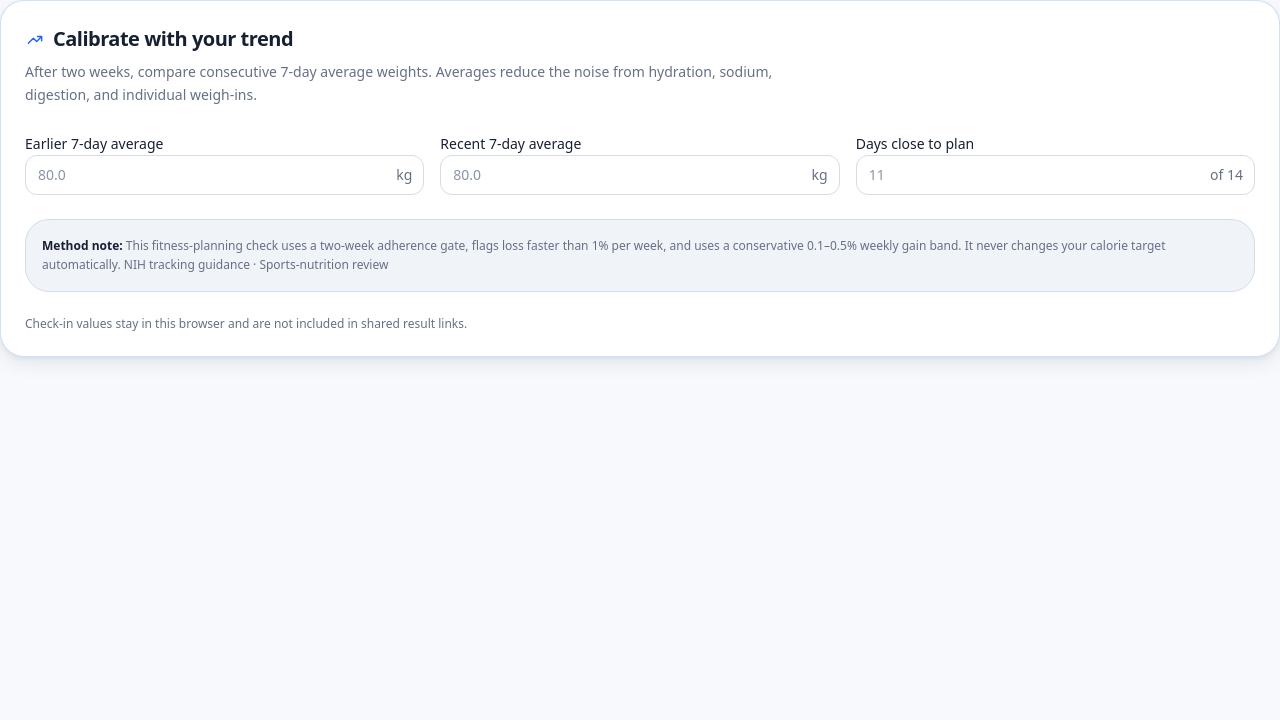
Test case: CalibrationPanel › does not diagnose the target when adherence is low
Type "80" into the number field labelled "Earlier 7-day average".
click(225, 174); type("80")  # box x1=25 y1=154 x2=424 y2=194
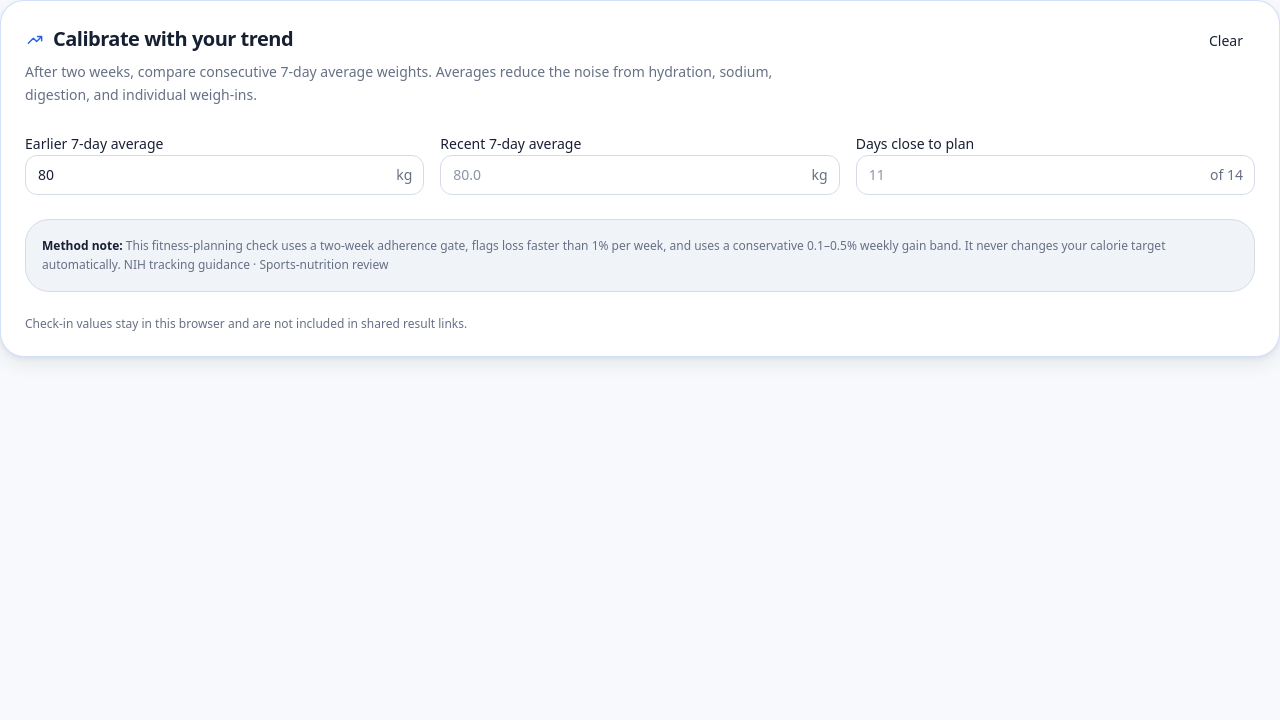
Type "80.3" into the number field labelled "Recent 7-day average".
click(640, 174); type("80.3")  # box x1=440 y1=154 x2=840 y2=194
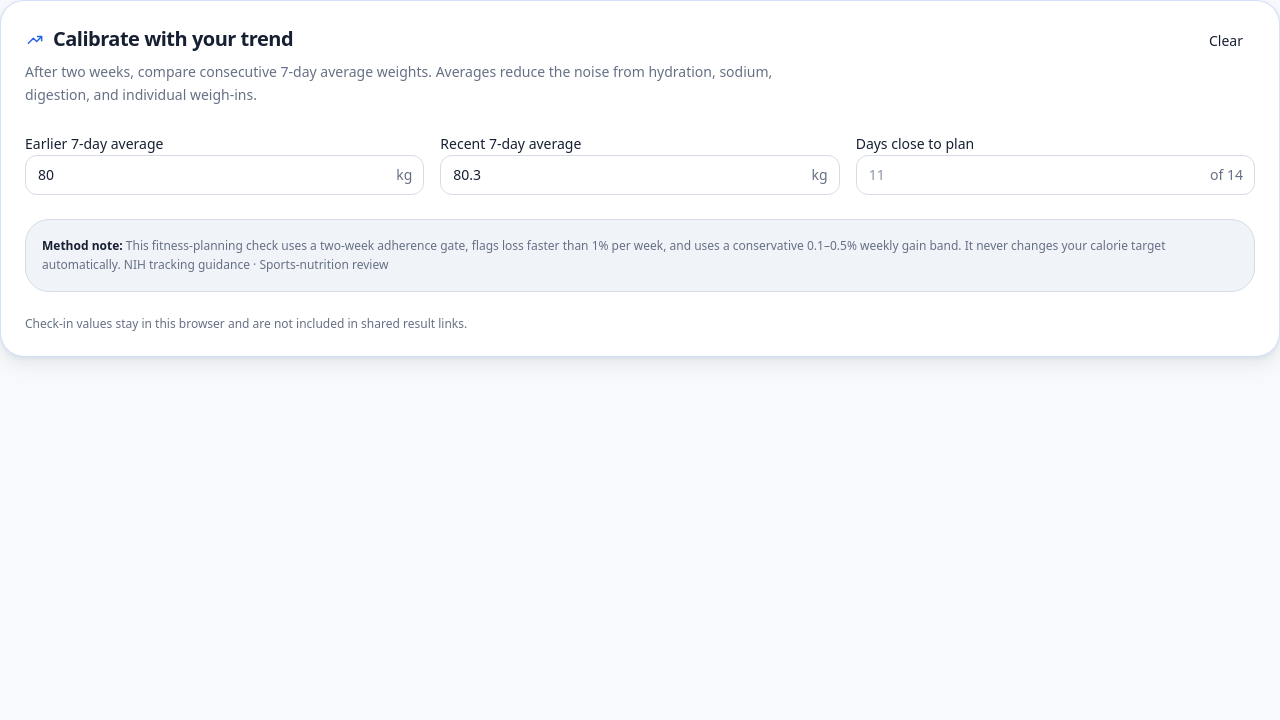
Type "8" into the number field labelled "Days close to plan".
click(1055, 174); type("8")  # box x1=856 y1=154 x2=1255 y2=194
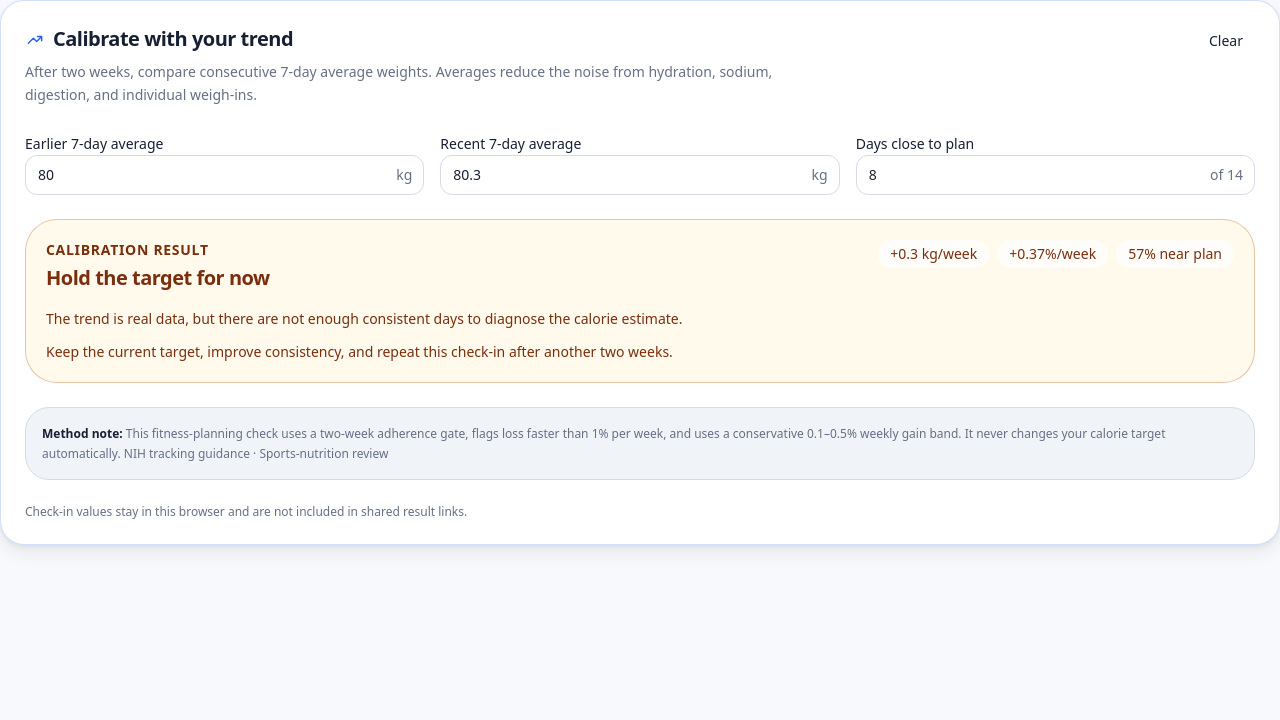
Check: the heading "Hold the target for now" is shown, box x1=46 y1=264 x2=270 y2=292
